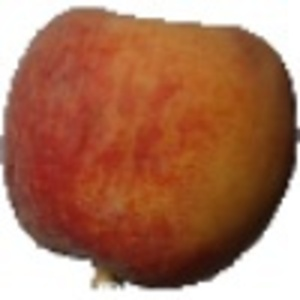pêssego: (2, 5, 300, 291)
